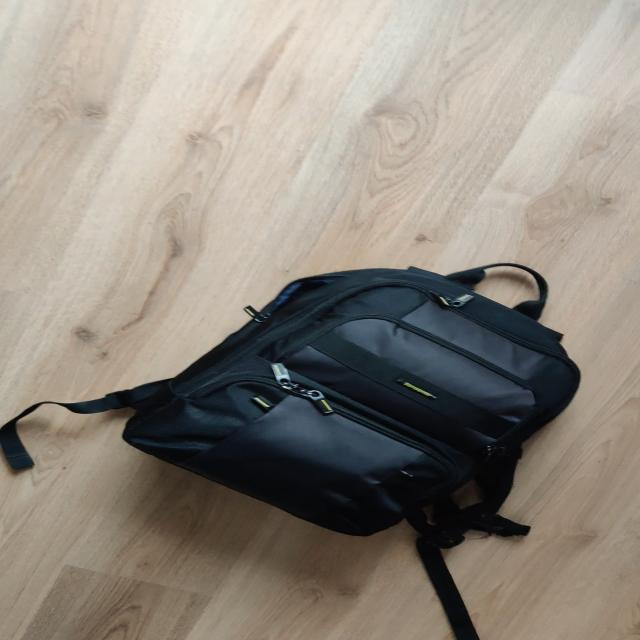backpack: (110, 252, 602, 552)
